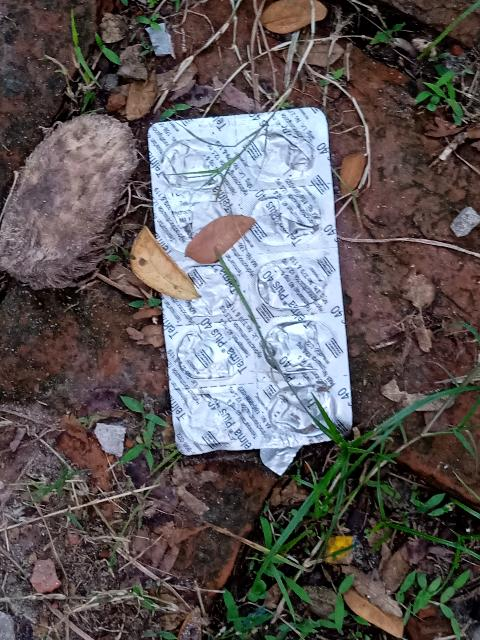medicine: (147, 112, 359, 449)
